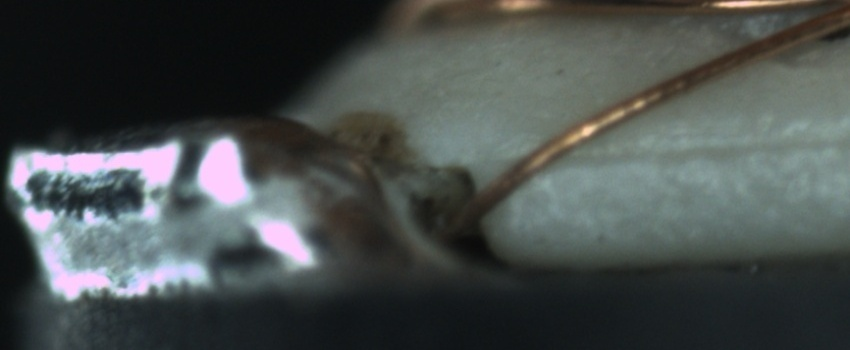DL: (554, 113, 850, 184)
